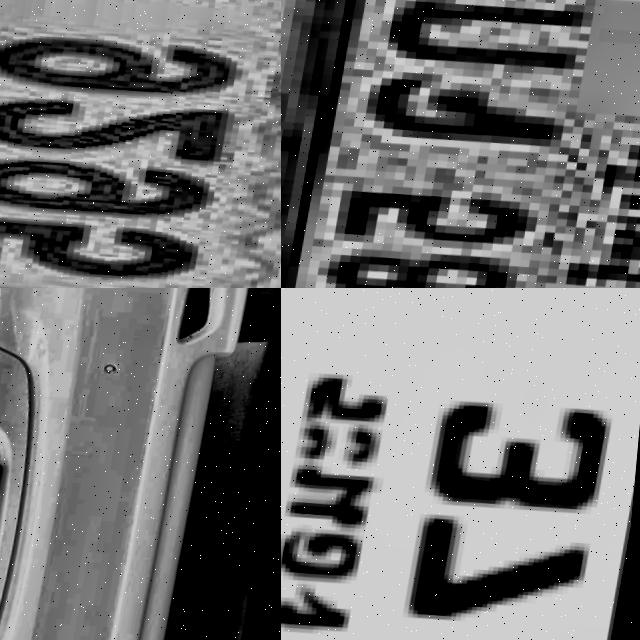license-plate: (281, 288, 640, 640), (281, 0, 640, 288), (0, 0, 281, 288)
